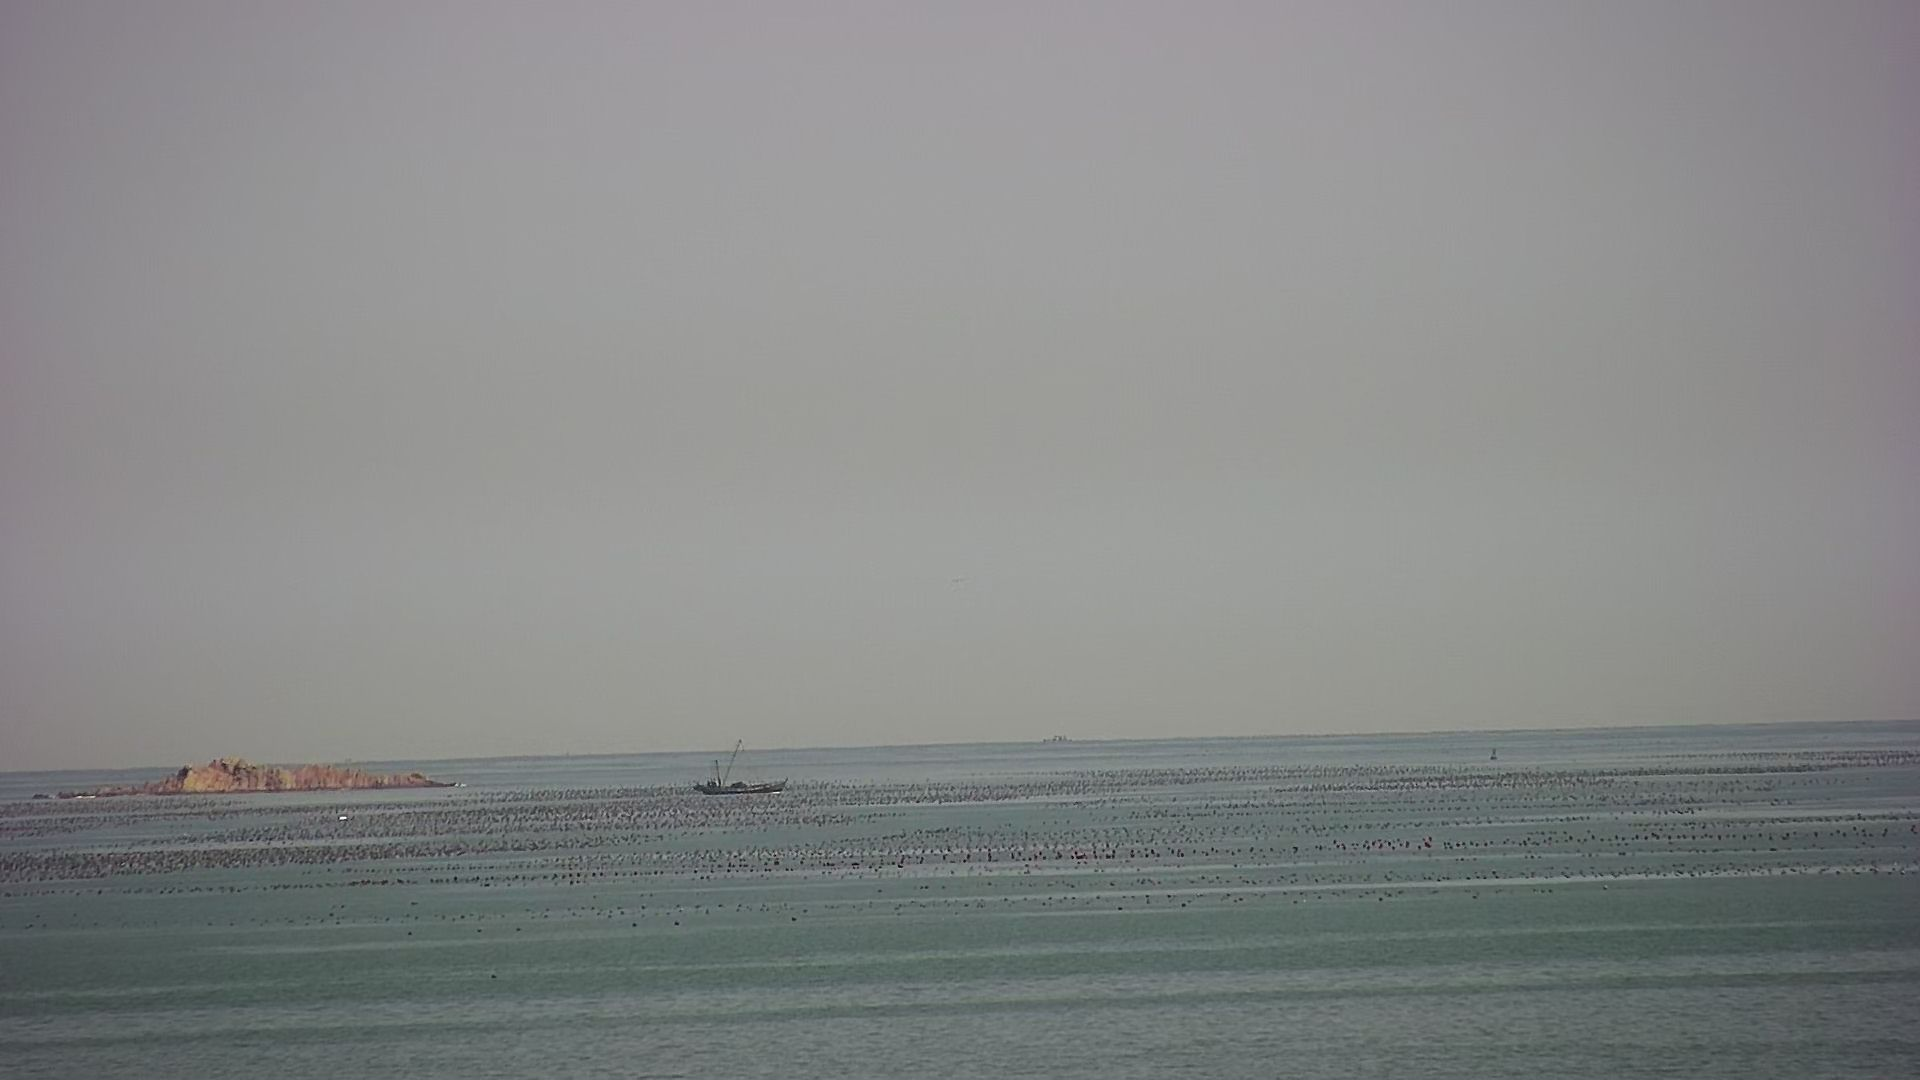boat: (695, 735, 789, 796)
rock: (22, 757, 489, 800)
